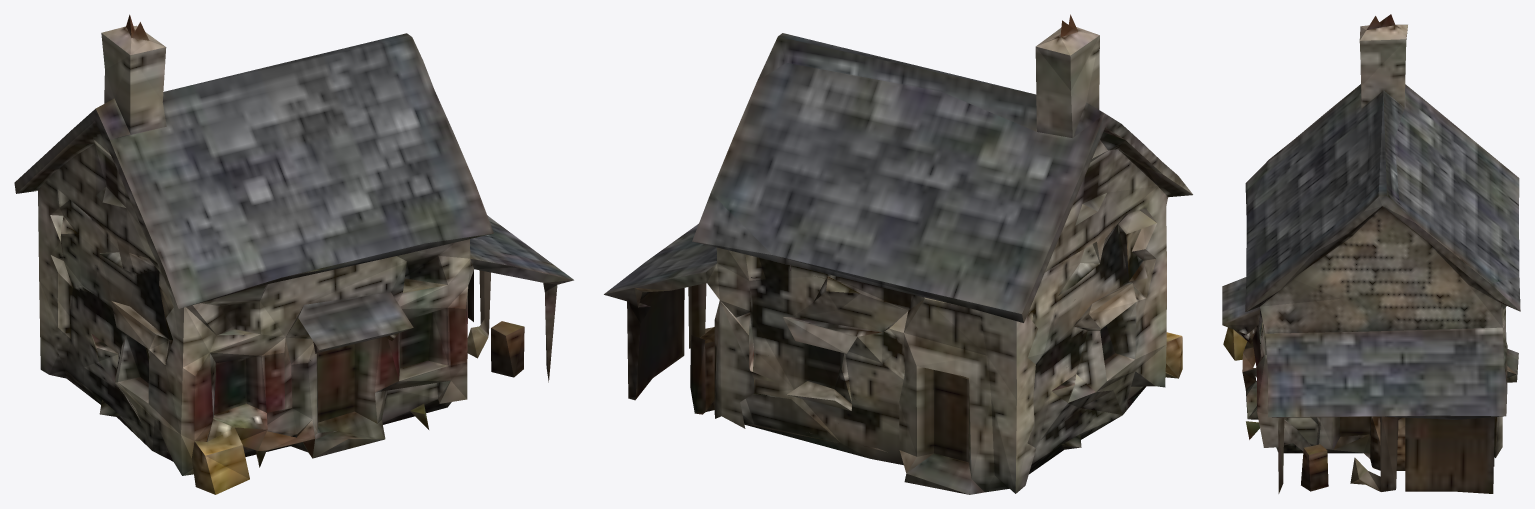
The model's file is village_house_c_lod2.glb.
3 views of the same model, side by side, from view 1: azimuth 30°, elevation 25°; view 2: azimuth 150°, elevation 25°; view 3: azimuth 270°, elevation 25° (orthographic). The views are drawn at different scales.
Visible parts, largest first — view 1: lod; view 2: lod; view 3: lod.
Part boxes in pixels (x1,y1,x2,y2): lod: [14, 14, 573, 494]; lod: [604, 14, 1192, 494]; lod: [1222, 14, 1520, 493].
Size of the model in its own units: 8.69 by 8.24 by 6.57.
Materials: 1 (1 with a texture image).
